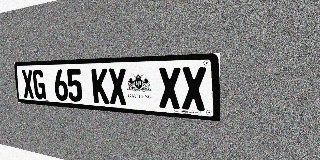5: (66, 69, 83, 102)
6: (53, 69, 69, 101)
G: (32, 70, 46, 99)
K: (91, 68, 109, 104)
X: (181, 67, 207, 111), (158, 67, 181, 109), (108, 68, 127, 105), (21, 70, 35, 99)
